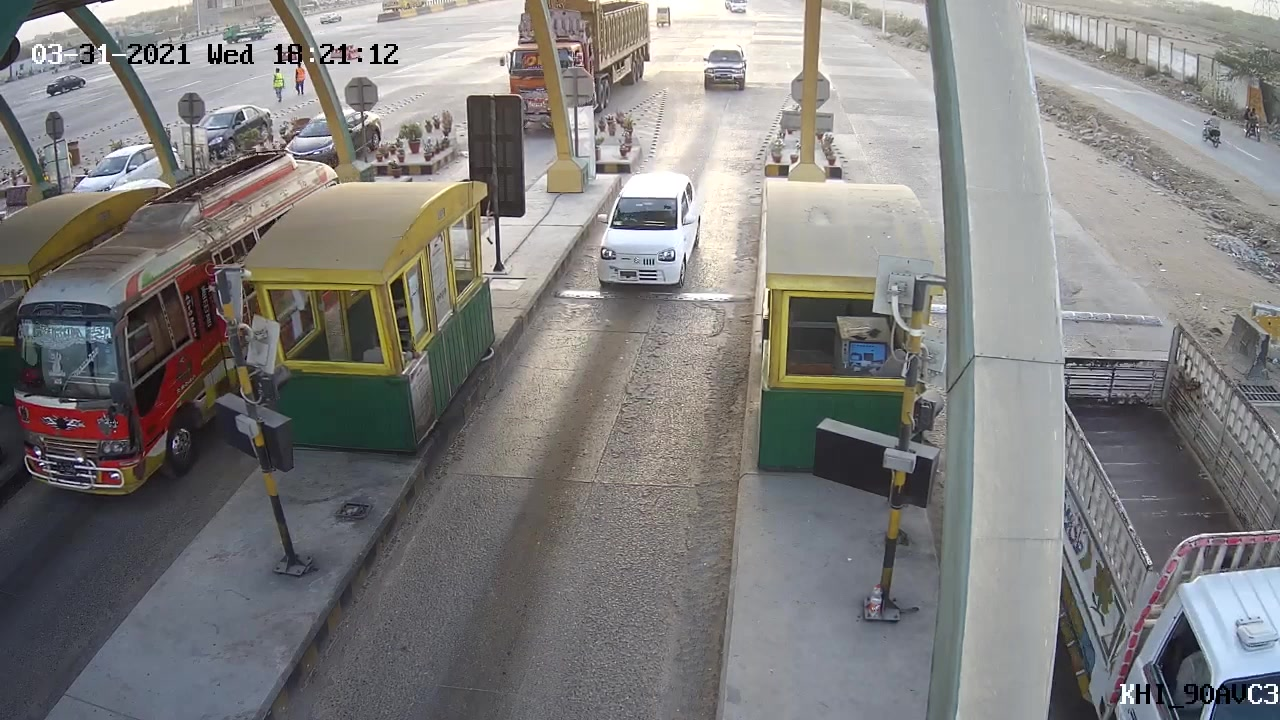F1: (585, 171, 711, 300)
